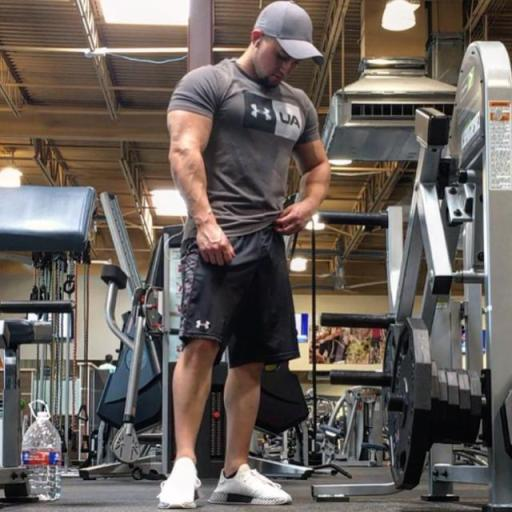Under Armour: (247, 98, 273, 126), (195, 318, 210, 332)
